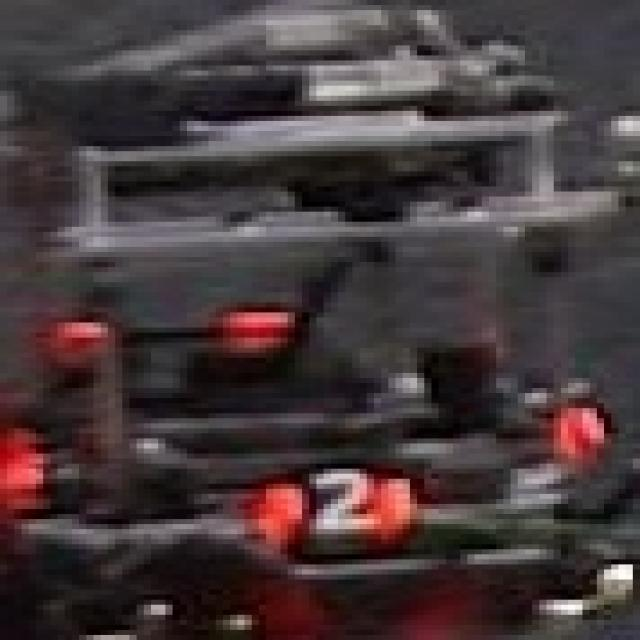R2: (245, 464, 417, 539)
